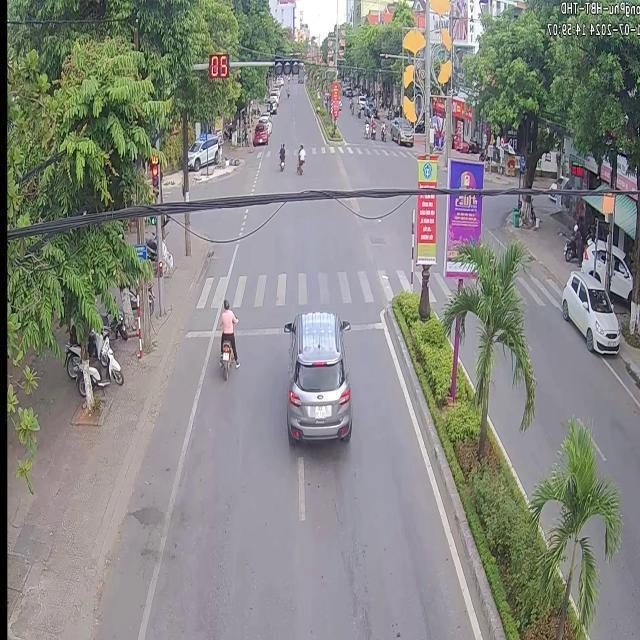car: (283, 309, 350, 442), (559, 267, 618, 354)
motobike: (217, 338, 232, 378)
red_light: (208, 53, 228, 79), (149, 153, 160, 199)
stop_line: (234, 325, 282, 335), (349, 320, 382, 329)
